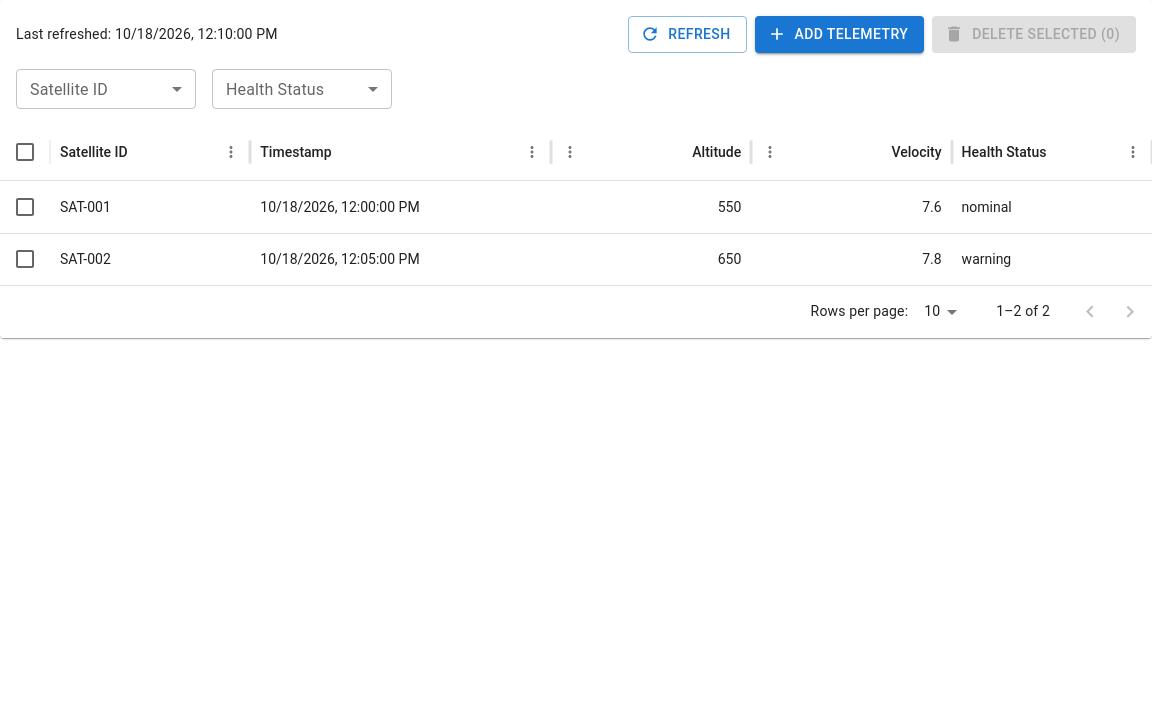
Test case: TelemetryTable › shows a confirmation dialog before deleting
Expected: the button "Delete Selected (0)" is disabled, [932,16,1136,52]
Click the checkbox named "Select row".
click(25, 207)  # box [13,195,37,219]
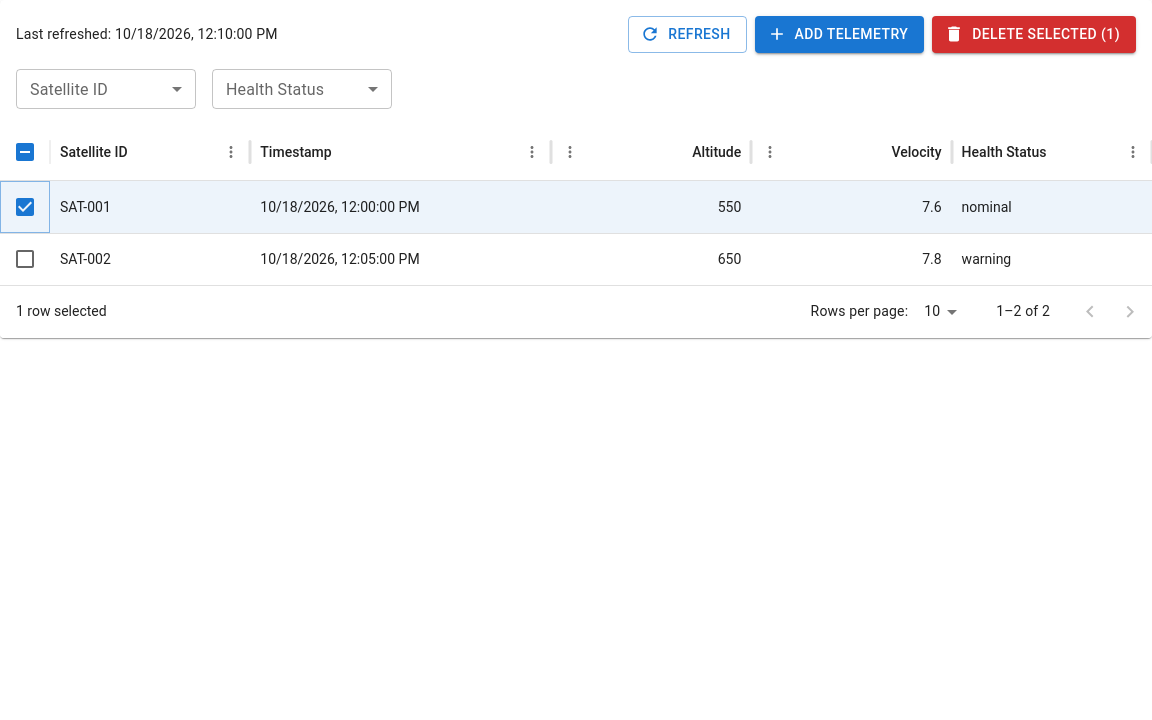
Click the button "Delete Selected (1)".
click(1034, 34)  # box [932,16,1136,52]
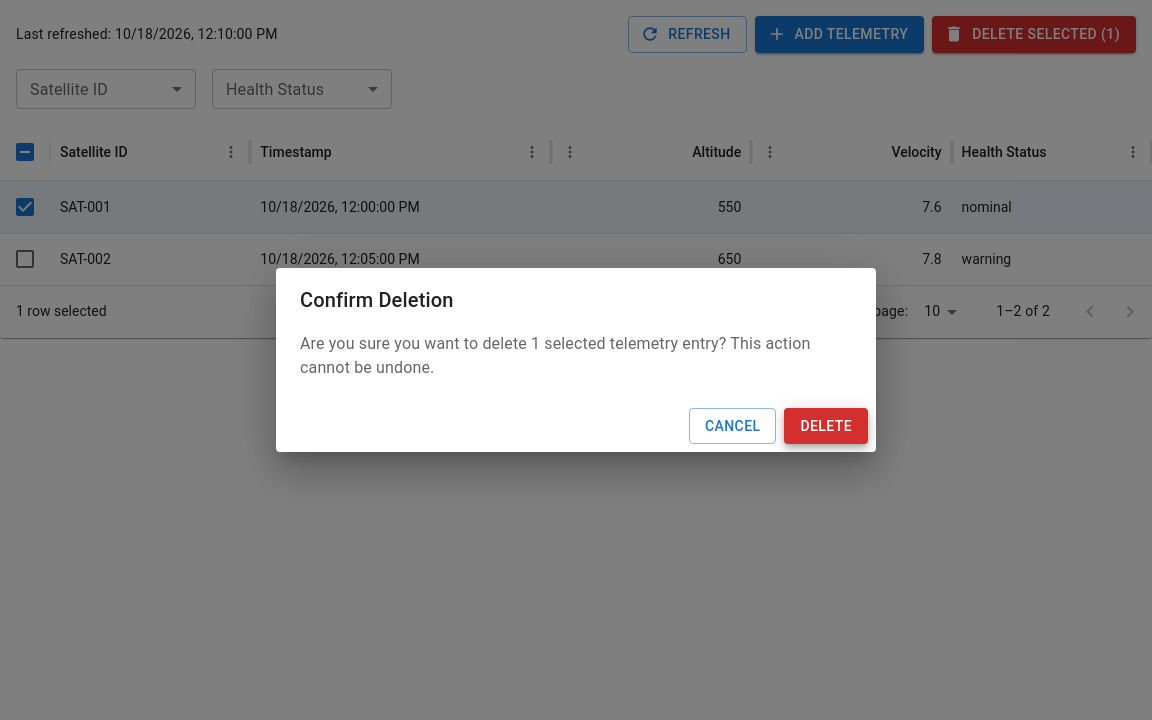
Now the dialog "Confirm Deletion" is shown, box [276,268,876,452]
Now the text "delete 1 selected telemetry entry" is shown, box [300,332,852,380]
